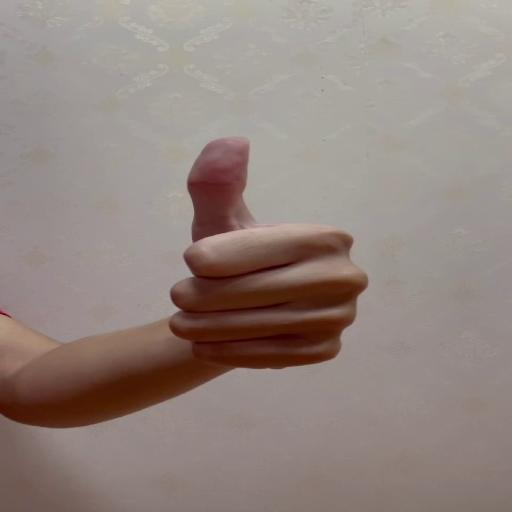thumbs_up: (162, 136, 372, 370)
